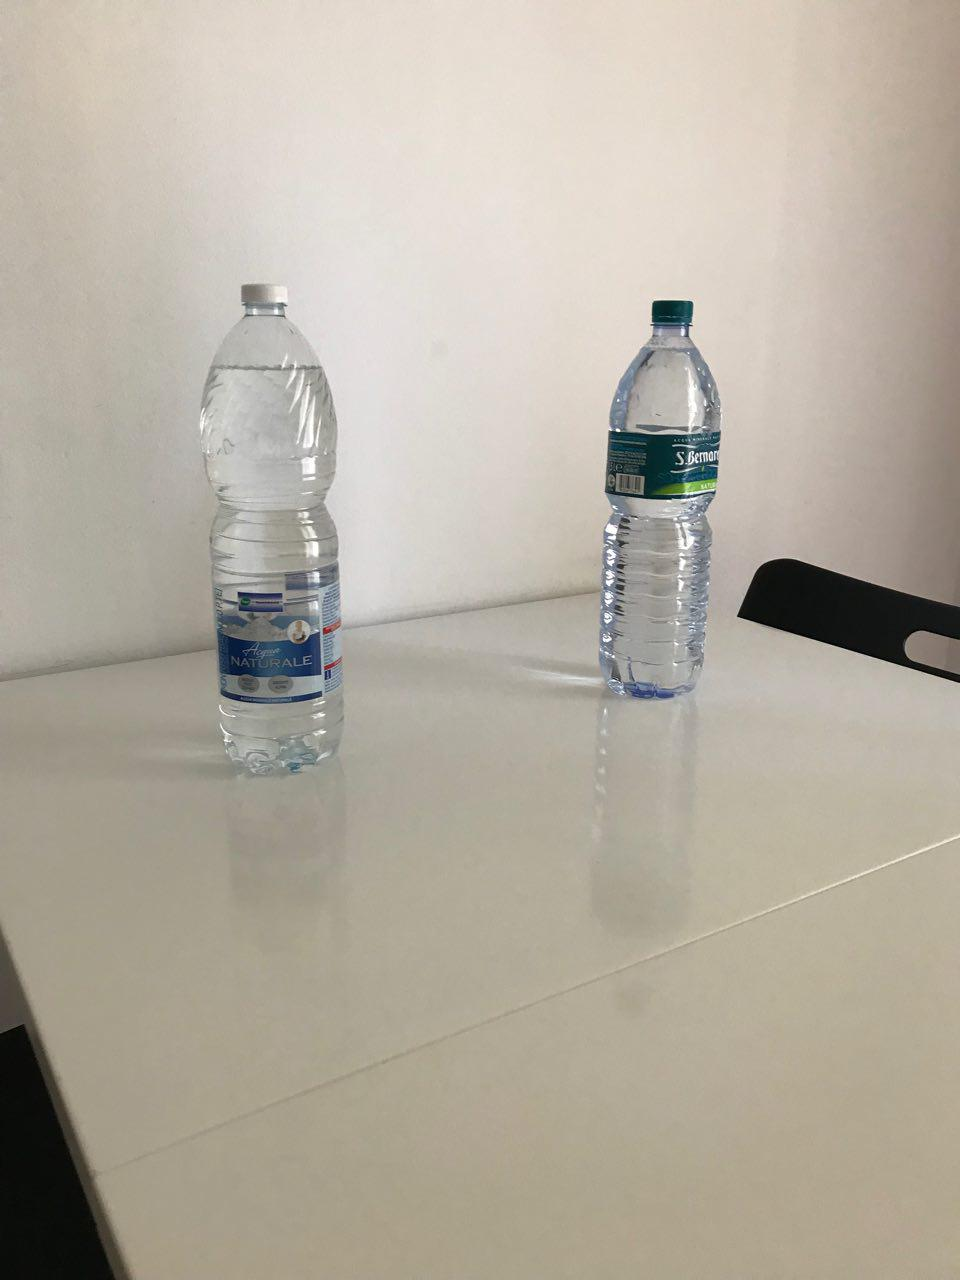san_bernardo: (597, 298, 722, 700)
